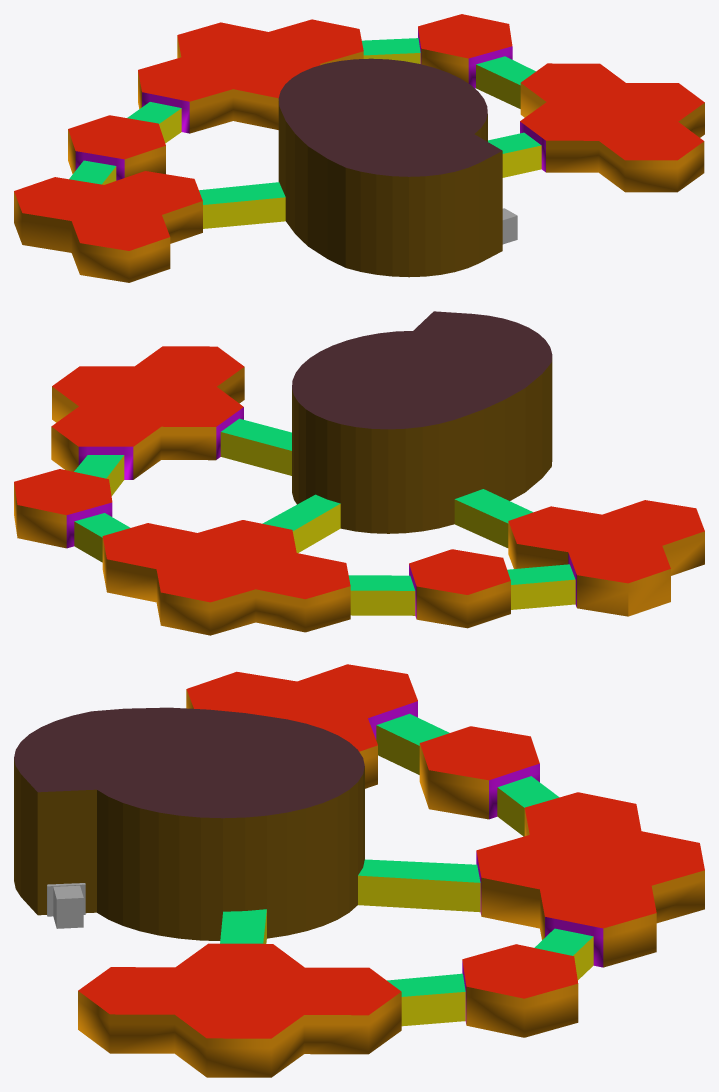
The model's file is CompleteMuseumReference.fbx.
3 renders of one model, top to bottom at view 1: azimuth 30°, elevation 25°; view 2: azimuth 150°, elevation 25°; view 3: azimuth 270°, elevation 25°, orthographic. The views are drawn at different scales.
Parts seen in each view (by area): view 1: Museum_complete_Blockout:Lobby, Museum_complete_Blockout:Japanese_room, Museum_complete_Blockout:FashionRoom, Museum_complete_Blockout:Fantasy_Forest4, Museum_complete_Blockout:neutral_room1, Museum_complete_Blockout:neutral_room_2, Museum_complete_Blockout:Corridor3, Museum_complete_Blockout:Corridor2, Museum_complete_Blockout:Corridor1, Museum_complete_Blockout:Corridor, Museum_complete_Blockout:Elevator; view 2: Museum_complete_Blockout:Lobby, Museum_complete_Blockout:Fantasy_Forest4, Museum_complete_Blockout:Japanese_room, Museum_complete_Blockout:FashionRoom, Museum_complete_Blockout:neutral_room1, Museum_complete_Blockout:neutral_room_2, Museum_complete_Blockout:Corridor1, Museum_complete_Blockout:Corridor, Museum_complete_Blockout:Corridor2, Museum_complete_Blockout:Corridor3; view 3: Museum_complete_Blockout:Lobby, Museum_complete_Blockout:Japanese_room, Museum_complete_Blockout:Fantasy_Forest4, Museum_complete_Blockout:FashionRoom, Museum_complete_Blockout:neutral_room_2, Museum_complete_Blockout:neutral_room1, Museum_complete_Blockout:Corridor3, Museum_complete_Blockout:Corridor, Museum_complete_Blockout:Corridor1, Museum_complete_Blockout:Corridor2, Museum_complete_Blockout:Elevator.
Boxes of the visible parts, <box> form: Museum_complete_Blockout:Lobby: <box>199,58,541,277</box>; Museum_complete_Blockout:Japanese_room: <box>520,63,704,192</box>; Museum_complete_Blockout:FashionRoom: <box>14,171,202,282</box>; Museum_complete_Blockout:Fantasy_Forest4: <box>138,19,363,133</box>; Museum_complete_Blockout:neutral_room1: <box>68,115,165,180</box>; Museum_complete_Blockout:neutral_room_2: <box>418,14,512,88</box>; Museum_complete_Blockout:Corridor3: <box>476,56,535,108</box>; Museum_complete_Blockout:Corridor2: <box>362,38,420,63</box>; Museum_complete_Blockout:Corridor1: <box>127,102,181,143</box>; Museum_complete_Blockout:Corridor: <box>69,160,116,184</box>; Museum_complete_Blockout:Elevator: <box>502,208,517,244</box>; Museum_complete_Blockout:Lobby: <box>220,311,552,552</box>; Museum_complete_Blockout:Fantasy_Forest4: <box>102,520,350,635</box>; Museum_complete_Blockout:Japanese_room: <box>51,346,244,479</box>; Museum_complete_Blockout:FashionRoom: <box>508,500,704,616</box>; Museum_complete_Blockout:neutral_room1: <box>409,549,510,628</box>; Museum_complete_Blockout:neutral_room_2: <box>14,469,112,548</box>; Museum_complete_Blockout:Corridor1: <box>348,575,415,615</box>; Museum_complete_Blockout:Corridor: <box>507,564,575,609</box>; Museum_complete_Blockout:Corridor2: <box>74,513,130,562</box>; Museum_complete_Blockout:Corridor3: <box>74,455,124,495</box>; Museum_complete_Blockout:Lobby: <box>14,707,480,943</box>; Museum_complete_Blockout:Japanese_room: <box>78,943,401,1077</box>; Museum_complete_Blockout:Fantasy_Forest4: <box>476,792,704,967</box>; Museum_complete_Blockout:FashionRoom: <box>186,664,417,788</box>; Museum_complete_Blockout:neutral_room_2: <box>462,944,578,1037</box>; Museum_complete_Blockout:neutral_room1: <box>419,726,539,819</box>; Museum_complete_Blockout:Corridor3: <box>387,973,465,1026</box>; Museum_complete_Blockout:Corridor: <box>376,713,449,774</box>; Museum_complete_Blockout:Corridor1: <box>497,776,559,836</box>; Museum_complete_Blockout:Corridor2: <box>534,928,593,980</box>; Museum_complete_Blockout:Elevator: <box>53,885,83,928</box>.
Size of the model in its own units: 28163 by 4316 by 21968.
